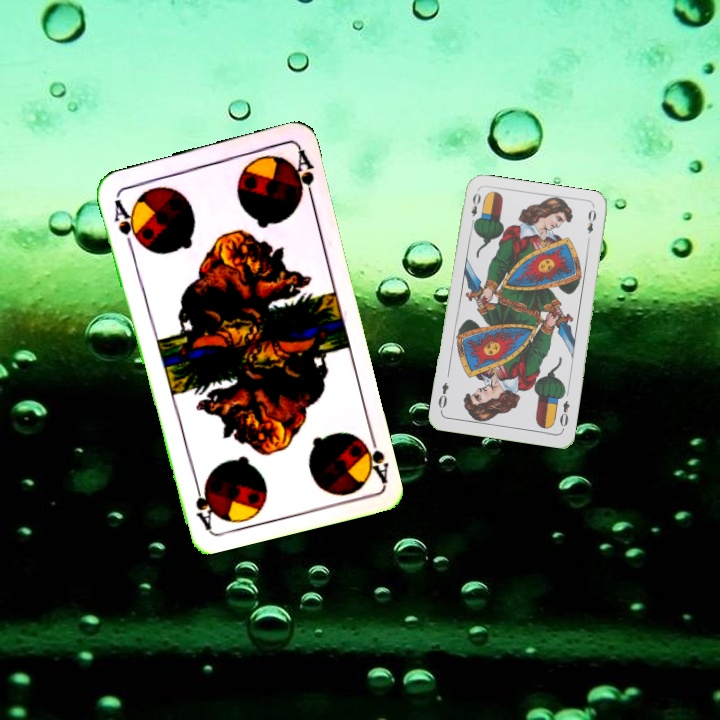EO: (467, 189, 483, 229), (556, 396, 572, 433)
SA: (354, 427, 391, 485), (110, 190, 143, 249)
